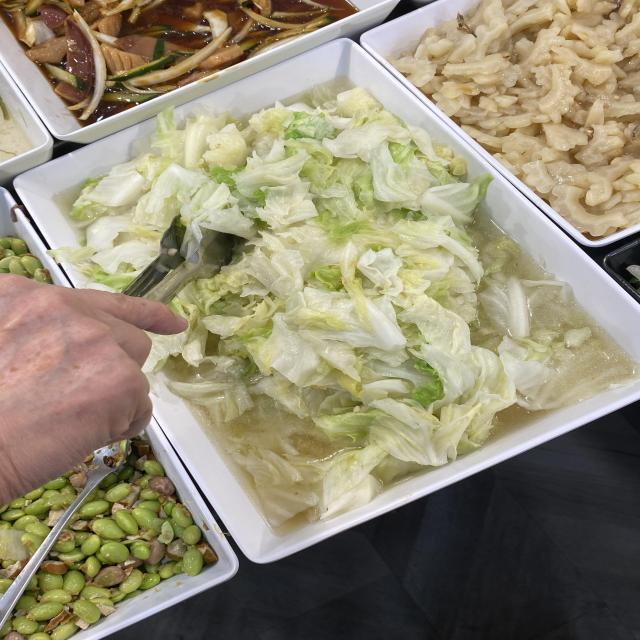bitter gourd: (462, 32, 633, 120)
cabbage: (241, 202, 474, 450)
